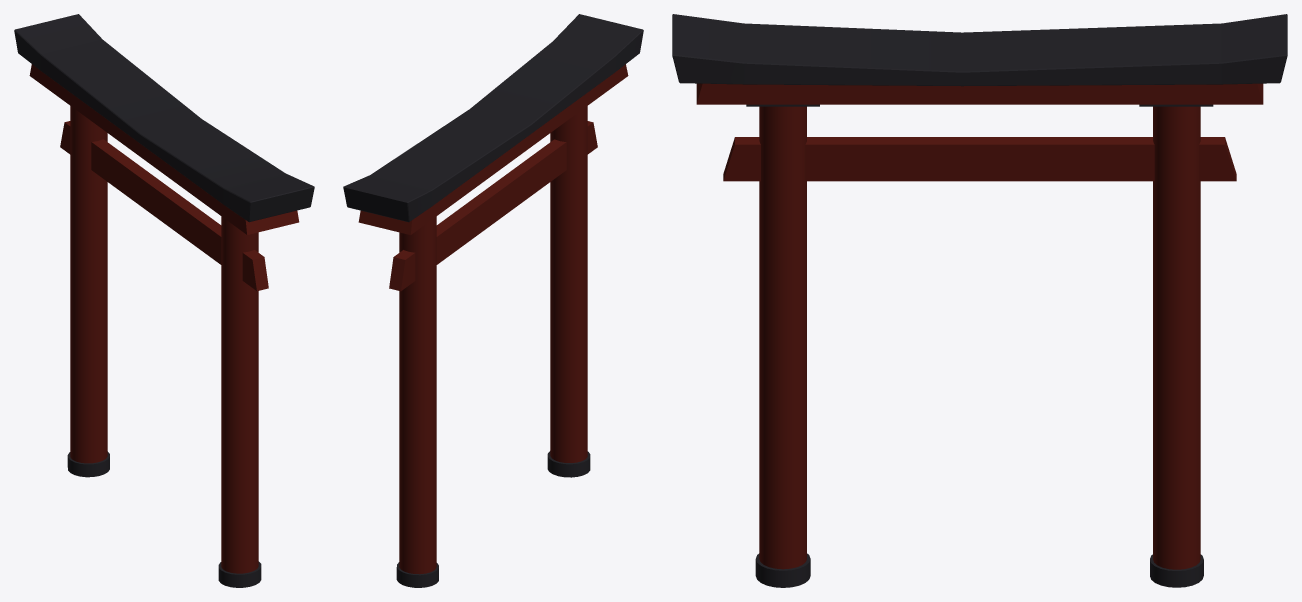
Rendered from arch01.fbx.
The picture shows the model from 3 angles, left to right: view 1: azimuth 30°, elevation 25°; view 2: azimuth 150°, elevation 25°; view 3: azimuth 270°, elevation 25°; orthographic projection. The views are drawn at different scales.
Visible parts, largest first — view 1: arch01; view 2: arch01; view 3: arch01.
Boxes of the visible parts, x1,y1,x2,y2 form: arch01: (14,14,314,587); arch01: (343,14,643,587); arch01: (672,14,1287,587).
Bounding box in the file's own units: 192 × 1172 × 1207.
